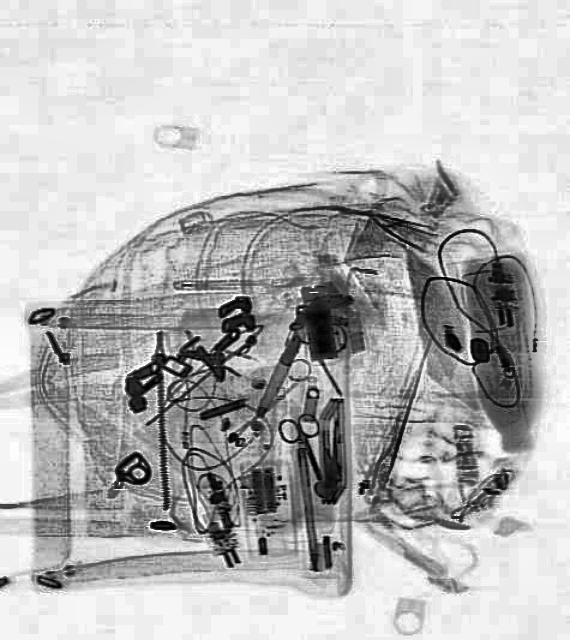Scissors: (274, 408, 336, 486)
